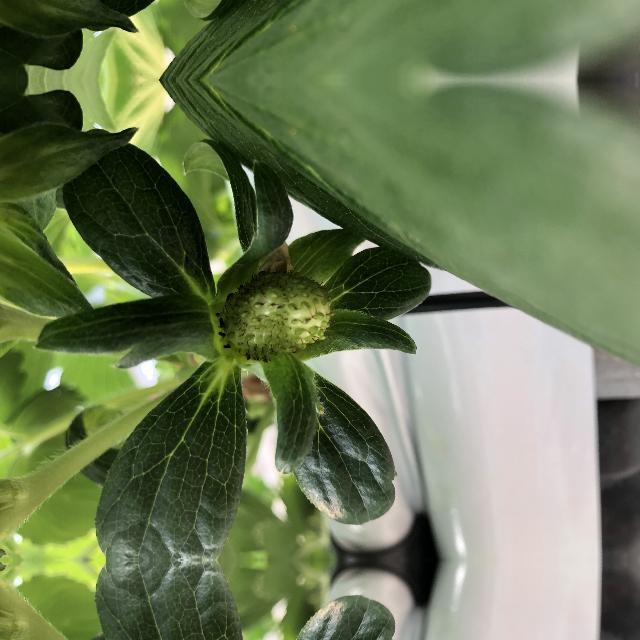Health_25: (218, 268, 336, 364)
